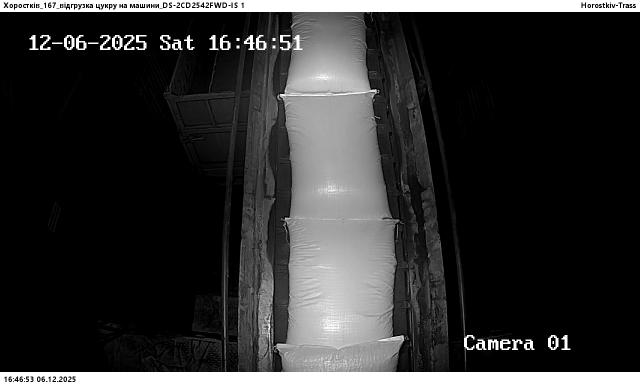bag: (278, 219, 394, 350), (279, 90, 393, 222), (285, 12, 371, 94), (277, 336, 403, 372)
